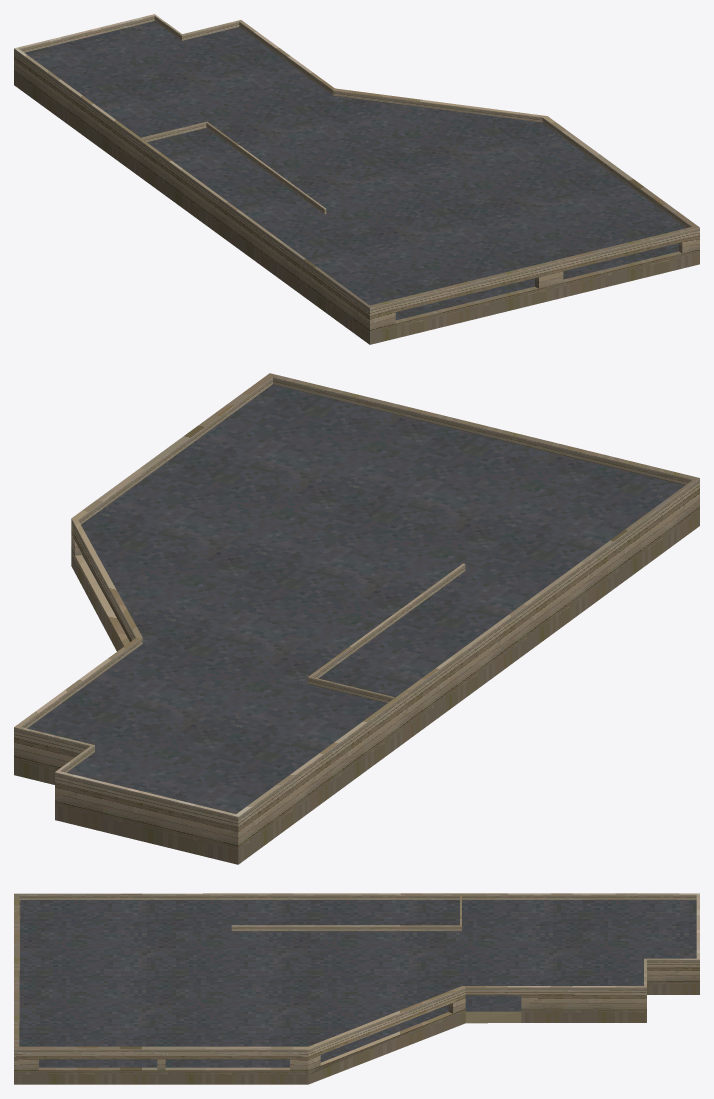
Rendered from lodllcpark1.obj.
3 views of the same model, one above another, from view 1: azimuth 30°, elevation 25°; view 2: azimuth 150°, elevation 25°; view 3: azimuth 270°, elevation 25° (orthographic). The views are drawn at different scales.
Parts seen in each view (by area): view 1: lodllcpark1; view 2: lodllcpark1; view 3: lodllcpark1.
Part boxes in pixels (bbox=[...]): lodllcpark1: bbox=[14, 14, 699, 344]; lodllcpark1: bbox=[14, 373, 699, 864]; lodllcpark1: bbox=[14, 893, 699, 1084].
Size of the model in its own units: 95.64 by 10.16 by 178.
Materials: 2 (2 with a texture image).
